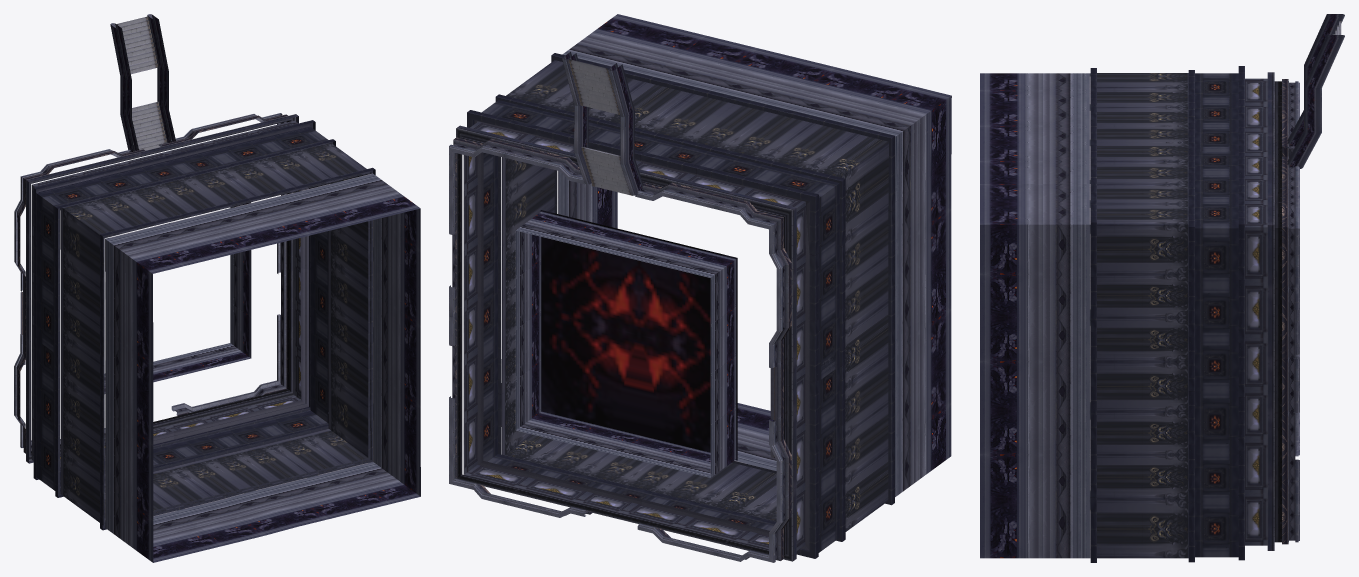
Rendered from Item_mgz_1005_pt_04.FBX.
3 renders of one model, left to right at view 1: azimuth 30°, elevation 25°; view 2: azimuth 150°, elevation 25°; view 3: azimuth 270°, elevation 25°, orthographic. The views are drawn at different scales.
Parts seen in each view (by area): view 1: Item_mgz_1005_pt_04; view 2: Item_mgz_1005_pt_04; view 3: Item_mgz_1005_pt_04.
Boxes of the visible parts, x1=… form: Item_mgz_1005_pt_04: x1=14, y1=14, x2=420, y2=562; Item_mgz_1005_pt_04: x1=449, y1=14, x2=951, y2=562; Item_mgz_1005_pt_04: x1=980, y1=14, x2=1344, y2=562.
Bounding box in the file's own units: 5718 × 7776 × 5580.
1 material, 1 textured.
